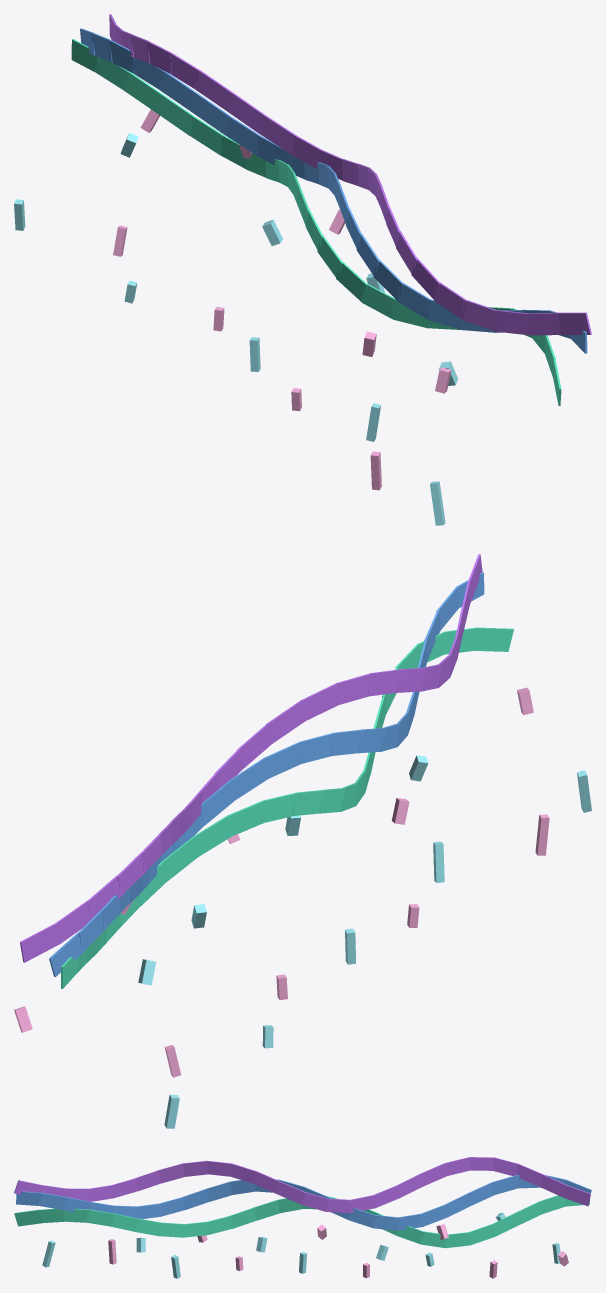
The model's file is cielo-alto_LadoDer.glb.
3 views of the same model, one above another, from view 1: azimuth 30°, elevation 25°; view 2: azimuth 150°, elevation 25°; view 3: azimuth 270°, elevation 25° (orthographic). The views are drawn at different scales.
Visible parts, largest first — view 1: Mapa_cielo_alto_LadoDer; view 2: Mapa_cielo_alto_LadoDer; view 3: Mapa_cielo_alto_LadoDer.
Part boxes in pixels (x1,y1,x2,y2): Mapa_cielo_alto_LadoDer: (14,14,591,525); Mapa_cielo_alto_LadoDer: (14,554,591,1128); Mapa_cielo_alto_LadoDer: (14,1157,591,1278).
Size of the model in its own units: 69.79 by 90.8 by 364.
Materials: 1 (1 with a texture image).
